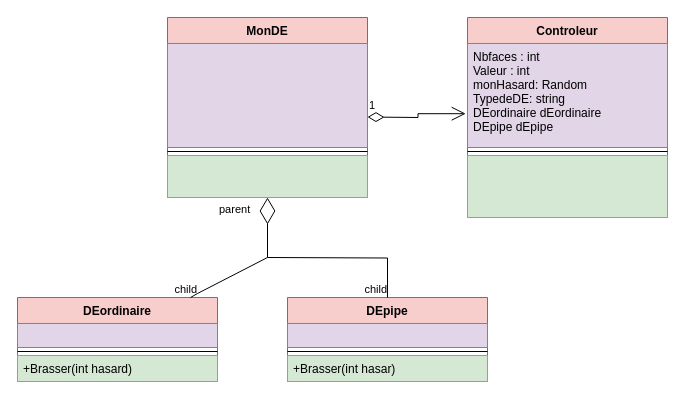
The diagram is 685 pixels wide and 402 high, and some of its shapes have lost their labels. The centre of each missing label's shape, as x and y in pixels:
*monDE(String:typedeDE) +Brasser(): (267,176)
+ Brasser(): void +ChoisirDEhasard(): int: (567,186)
Nbfaces : int Valeur : int monHasard: Random TypedeDE: string: (267,95)
